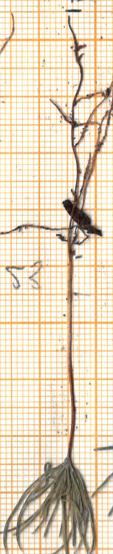flower: (0, 461, 98, 554)
root: (39, 0, 113, 259)
stem: (58, 261, 78, 457)
